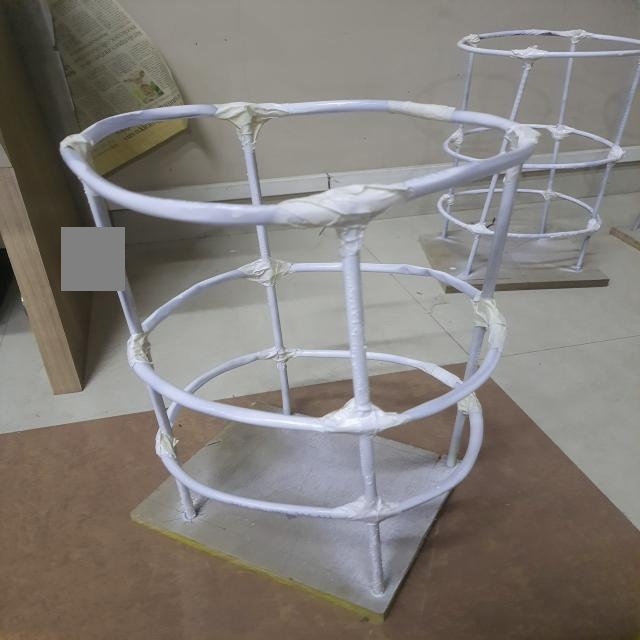silo: (65, 106, 527, 610), (418, 31, 623, 277)
